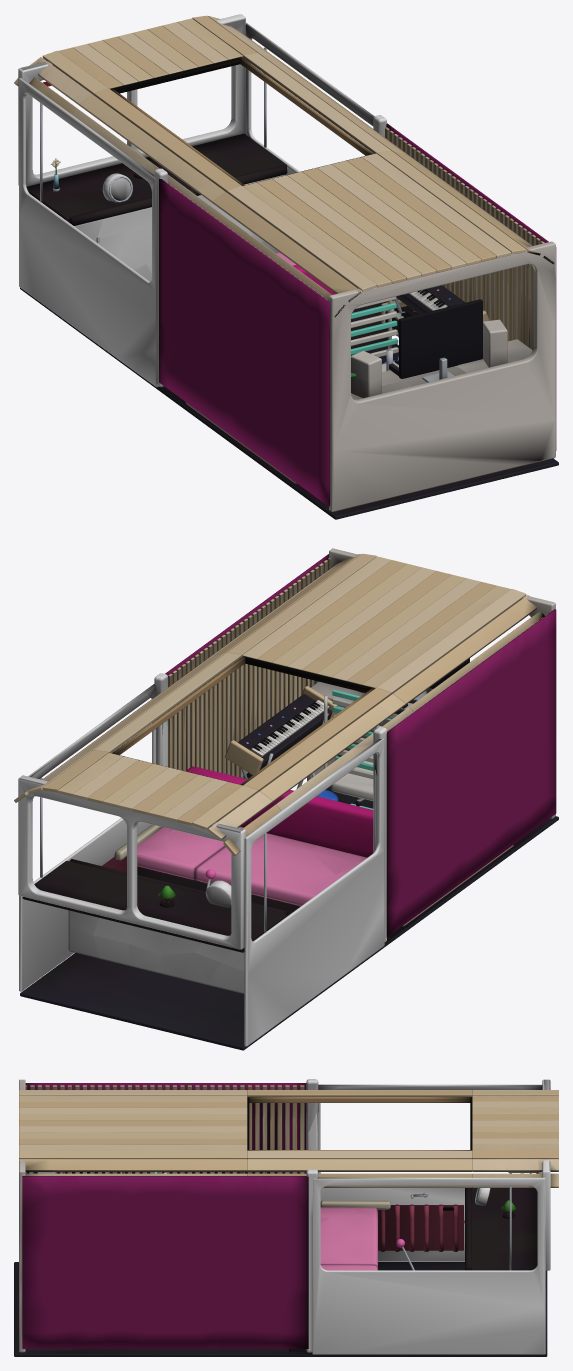
Rendered from kombi-interior.glb.
3 views of the same model, one above another, from view 1: azimuth 30°, elevation 25°; view 2: azimuth 150°, elevation 25°; view 3: azimuth 270°, elevation 25° (orthographic). The views are drawn at different scales.
Parts seen in each view (by area): view 1: fosco, lata, cromo; view 2: fosco, lata, pelo, cromo; view 3: fosco, lata, pelo, cromo.
Boxes of the visible parts, x1,y1,x2,y2 form: fosco: (14, 15, 558, 519); lata: (18, 14, 386, 387); cromo: (40, 47, 453, 382); fosco: (14, 548, 558, 1050); lata: (18, 673, 386, 1046); pelo: (126, 766, 373, 905); cromo: (40, 688, 432, 932); fosco: (14, 1079, 558, 1356); lata: (306, 1079, 550, 1354); pelo: (320, 1207, 377, 1270); cromo: (401, 1172, 531, 1270).
Bounding box in the file's own units: 1.74 × 1.62 × 4.25.
